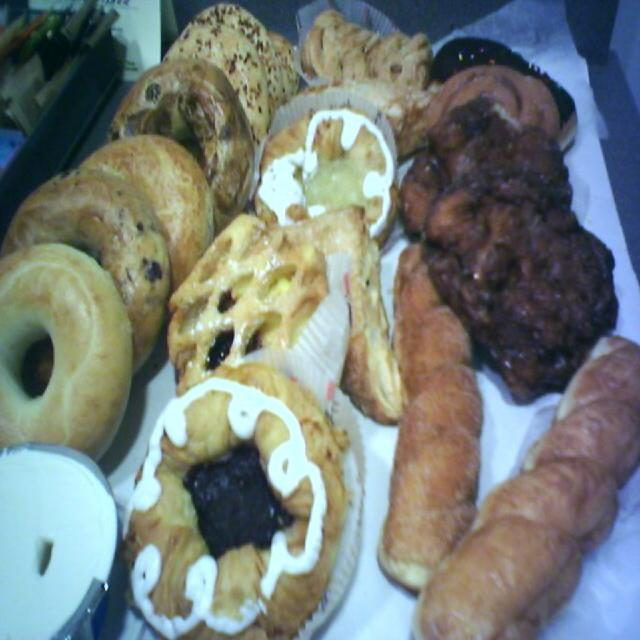Bagel: (0, 0, 304, 480), (412, 333, 639, 639), (375, 240, 485, 591), (0, 253, 132, 488)
